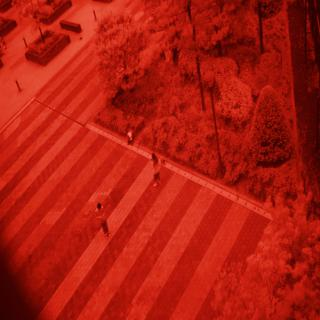person: (144, 143, 167, 194), (90, 199, 113, 245)
